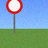sign: (6, 0, 23, 36)
